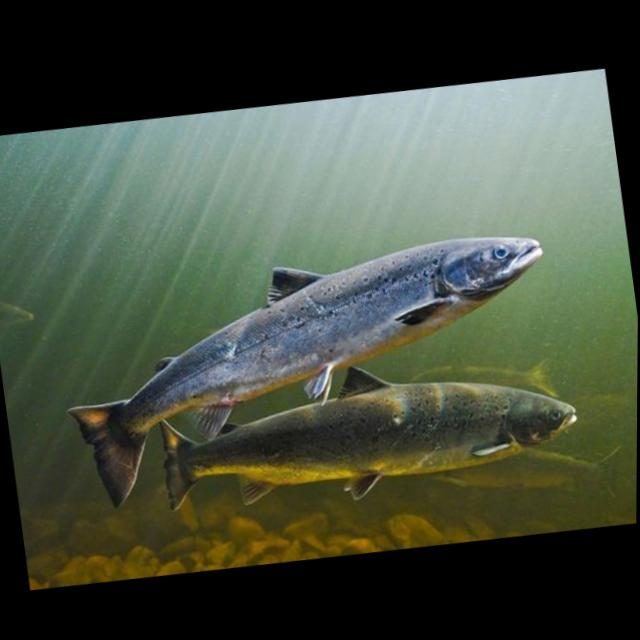fish: (40, 205, 578, 533), (142, 322, 592, 529)
